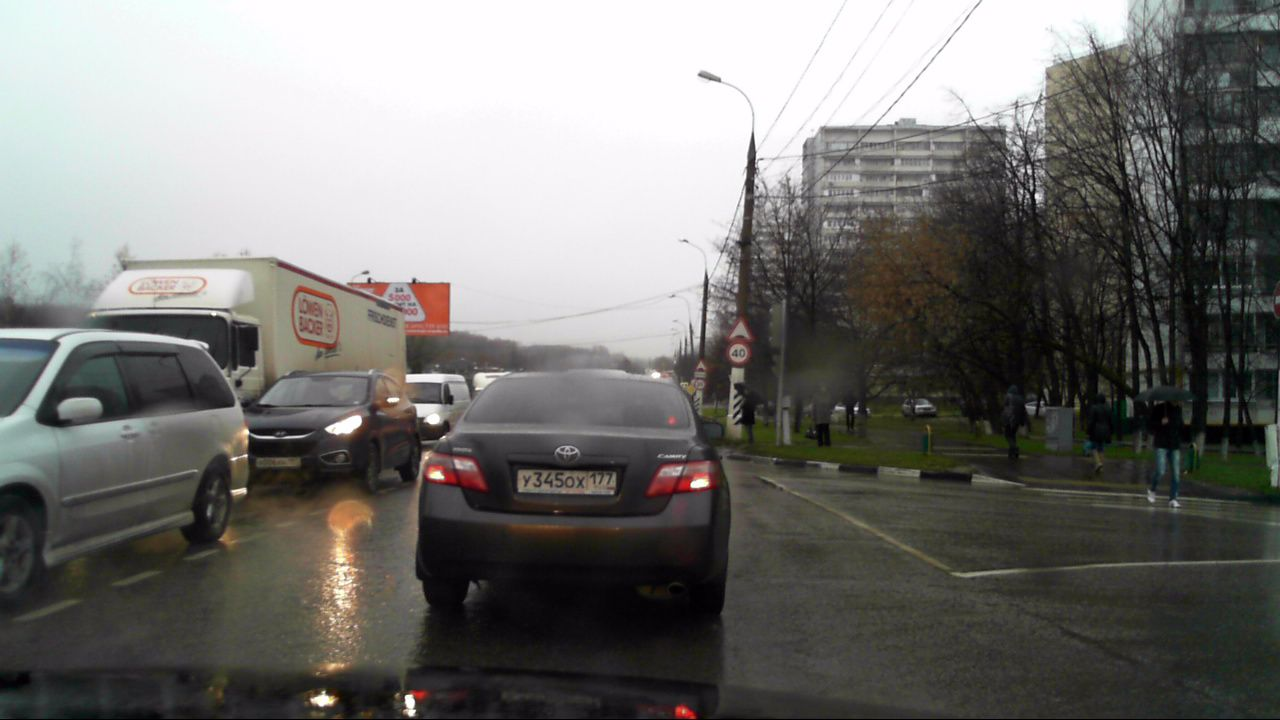speed_warning_40: (727, 343, 747, 363)
